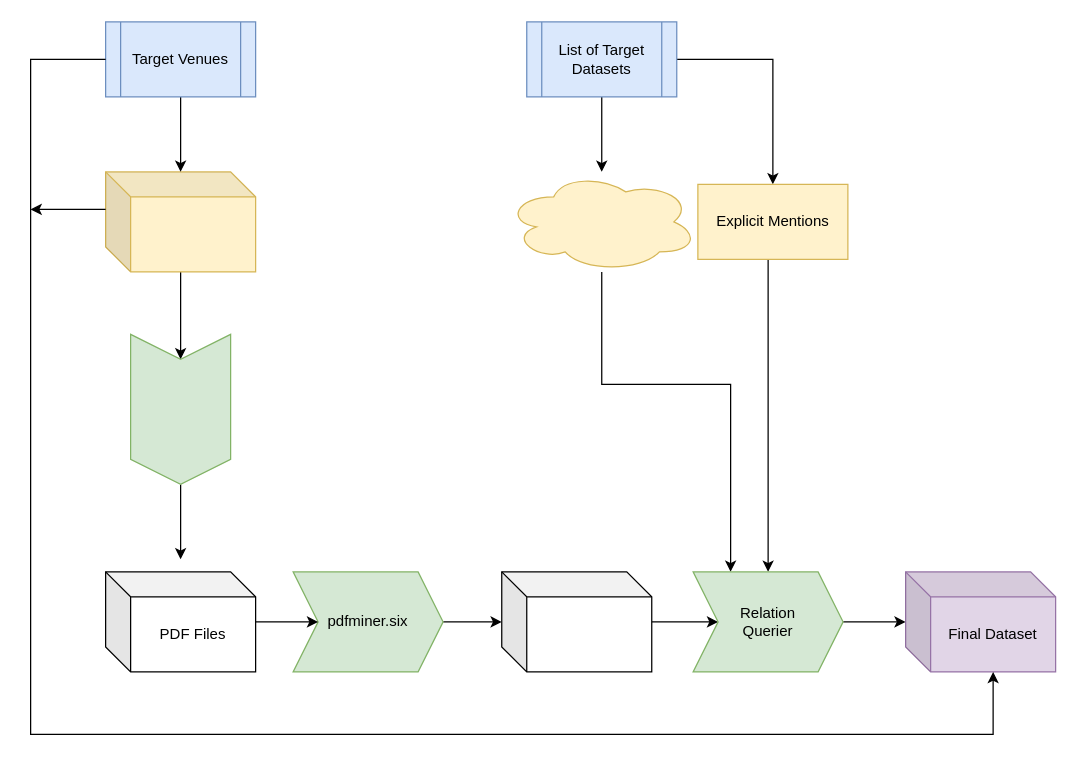
Some shapes in this 1078 by 766 pixel diagram are drawn without their labels. Here are the shapes that lost their labels. From the top down, the centre of each, then its label:
At point (180, 221): "PDF Sources (i.e. Proceedings)".
At point (601, 221): "Related Keywords".
At point (180, 408): "Downloader".
At point (576, 621): "Text Files".
